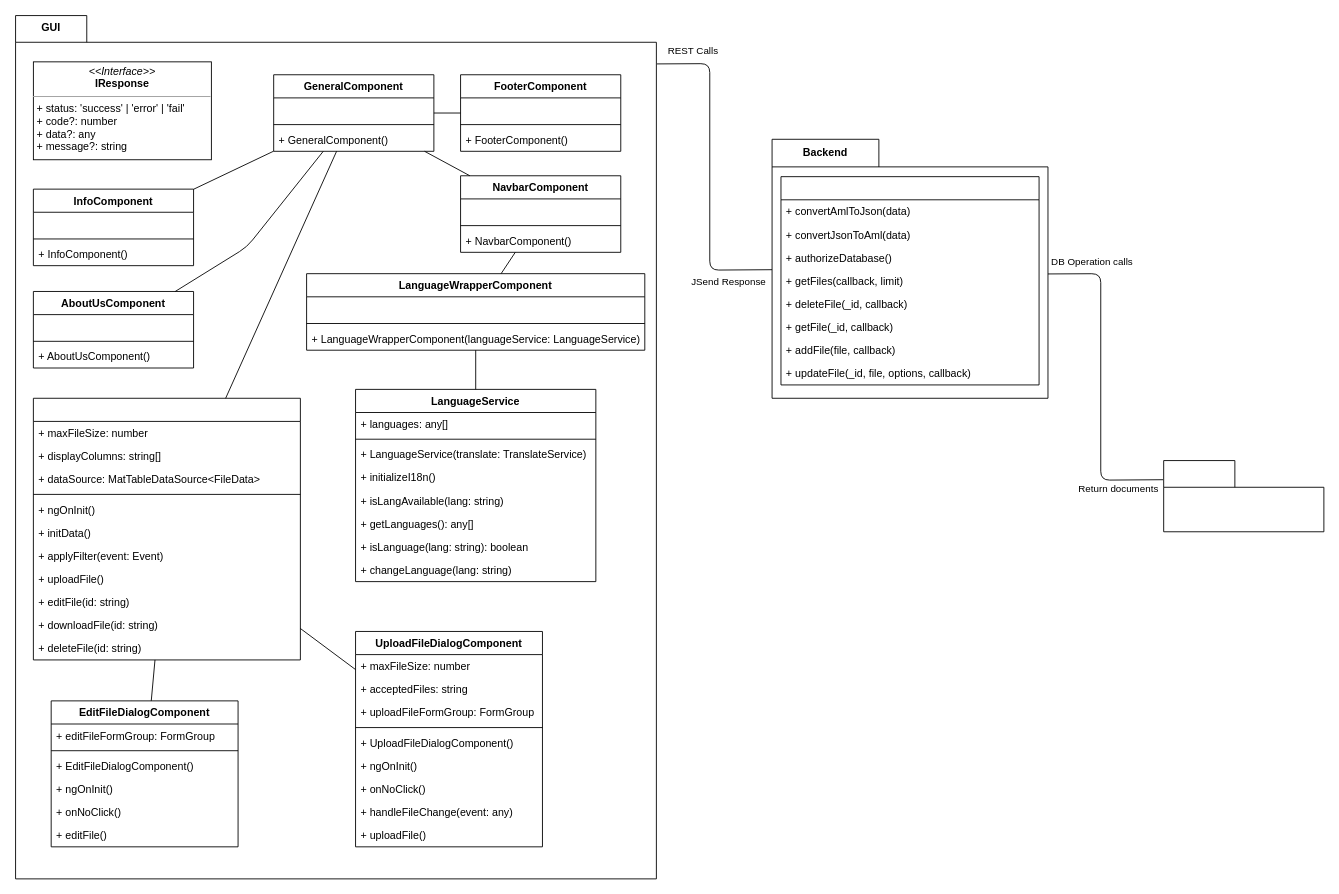
This 1339x894 diagram has some shape labels left out. Here are the shapes that lost their labels. From the top down, the box of each, then its label:
(780, 176, 1039, 385): server.js
(1163, 460, 1324, 532): Database
(32, 397, 300, 660): HomeComponent
